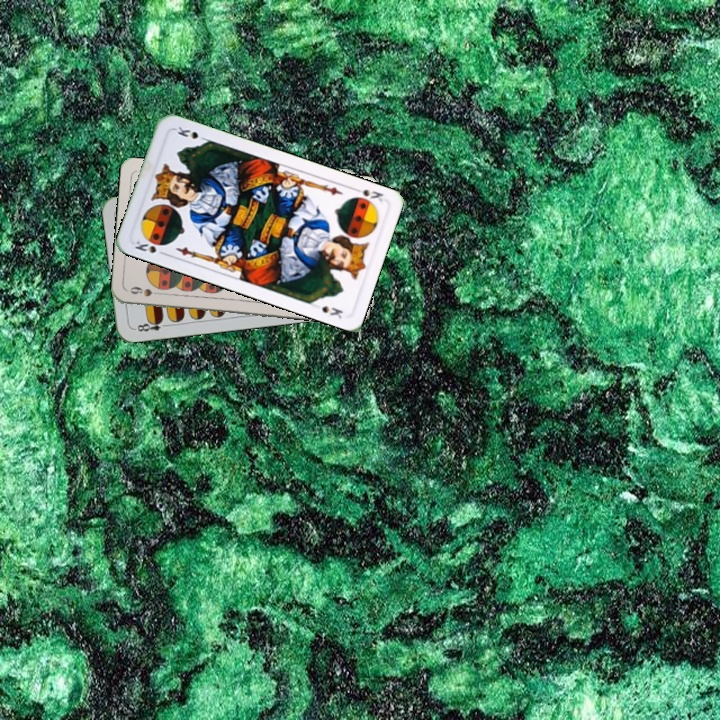E8: (130, 315, 171, 334)
S9: (126, 282, 166, 299)
SK: (131, 236, 170, 258), (348, 185, 386, 204)
